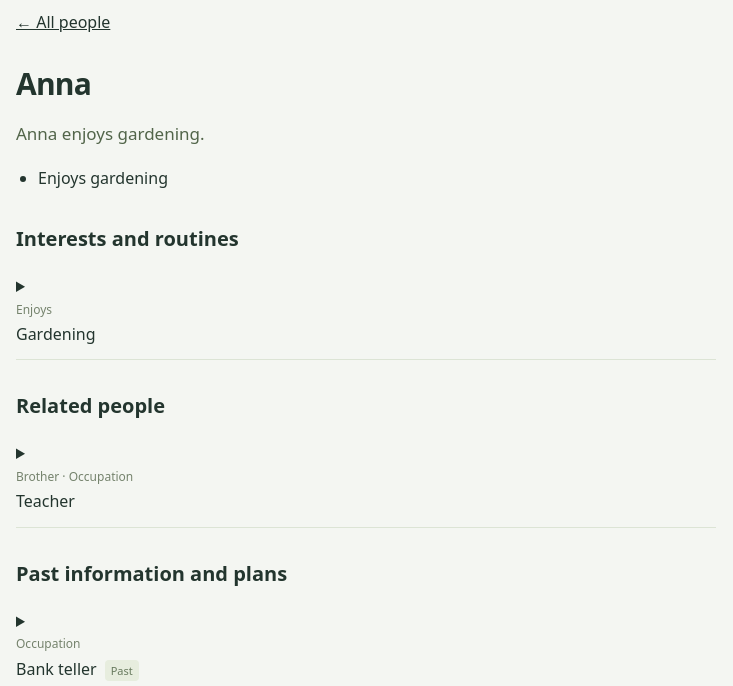
separates current, related, past, and unresolved facts and exposes quotes
expect the heading "Anna" is shown: met, box [16, 63, 91, 104]
expect the heading "Interests and routines" is shown: met, box [16, 225, 239, 252]
Click the text "Gardening": click(56, 334) [16, 323, 96, 345]
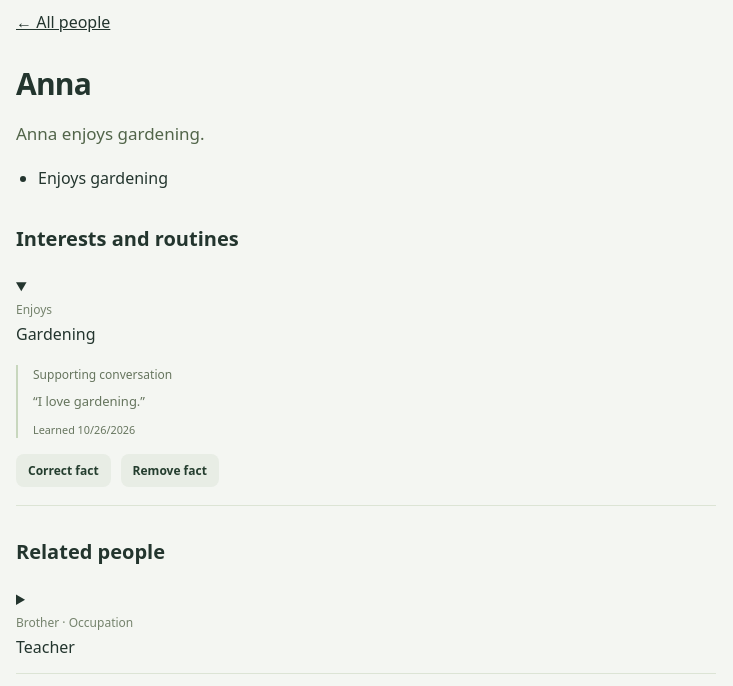
expect the text "“I love gardening.”" is shown: met, box [33, 392, 145, 410]
